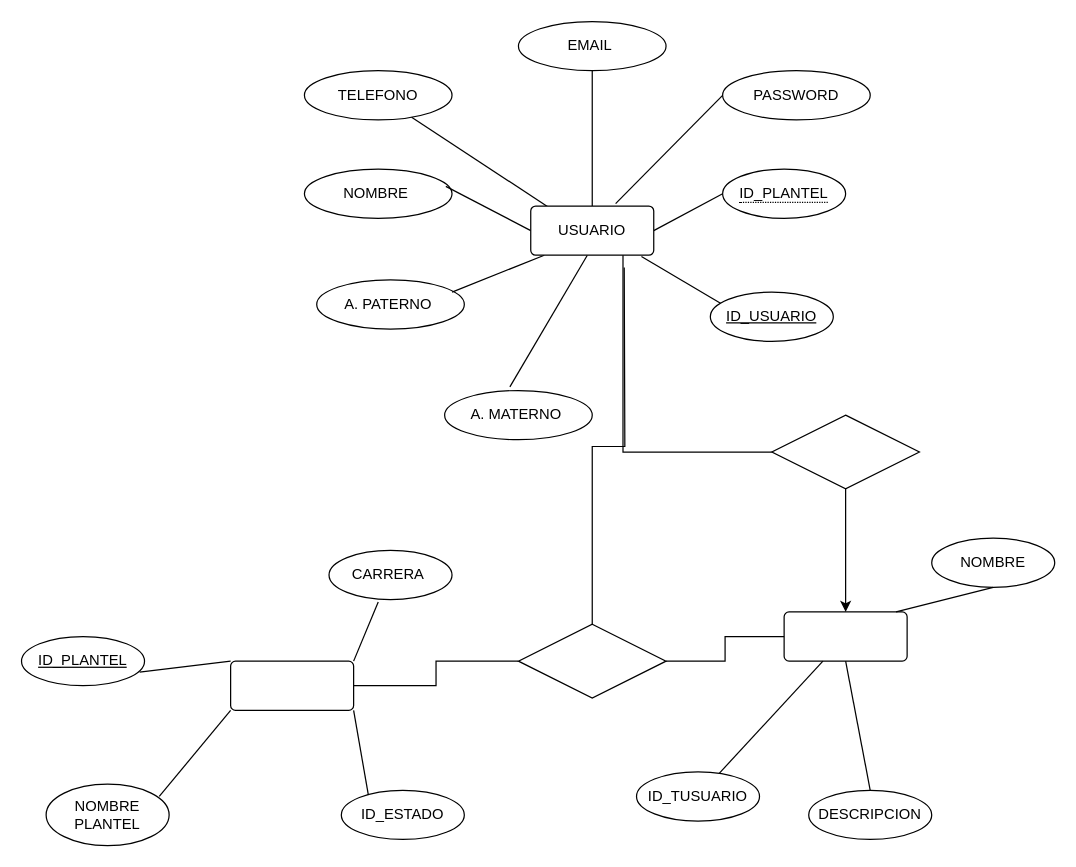
Some shapes in this 1076 by 867 pixel diagram are drawn without their labels. Each missing label, with the box of its shape:
PLANTEL: (229, 660, 354, 710)
TIENE: (771, 414, 919, 489)
TIPO DE USUARIO: (783, 611, 907, 661)
VIENE: (517, 623, 666, 698)
